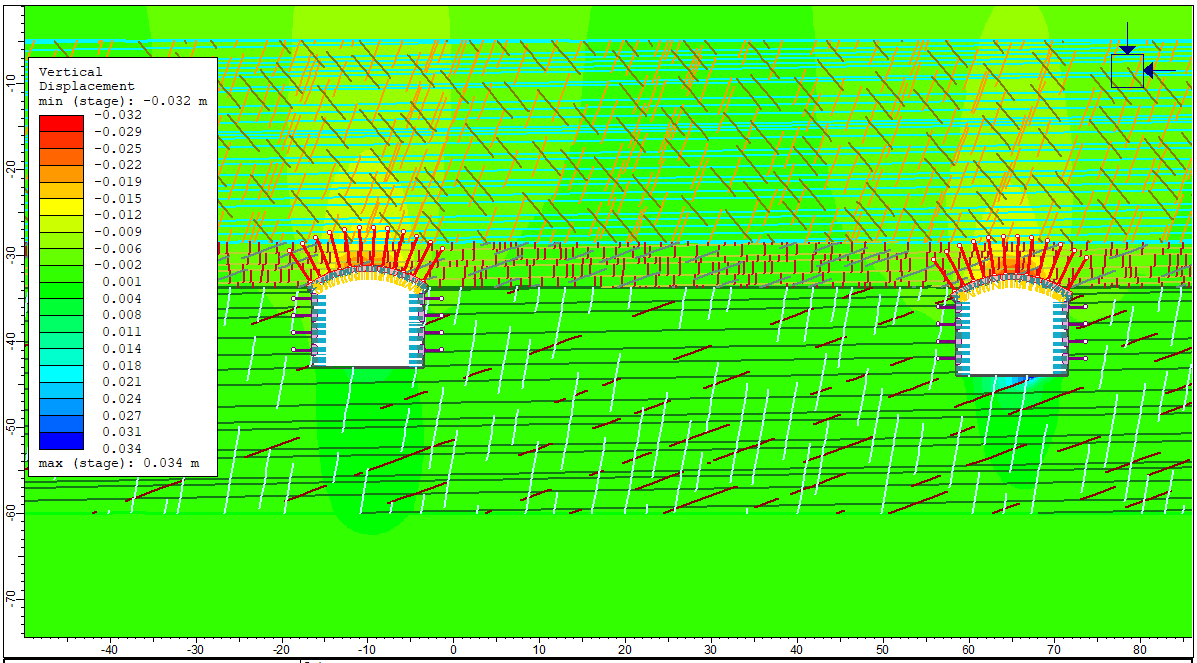crown: (994, 251, 1037, 272), (348, 242, 382, 261)
label: (30, 58, 216, 475)
tunnel-opening: (955, 273, 1071, 374), (312, 267, 426, 368)
